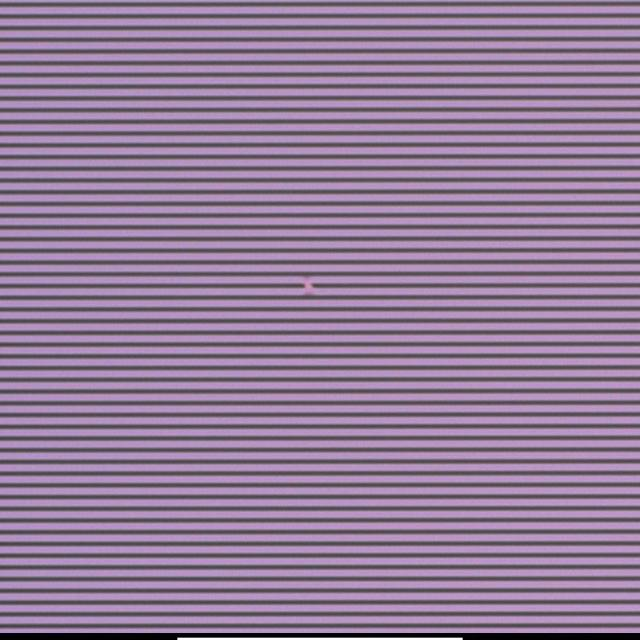03_intrusion: (296, 274, 318, 298)
